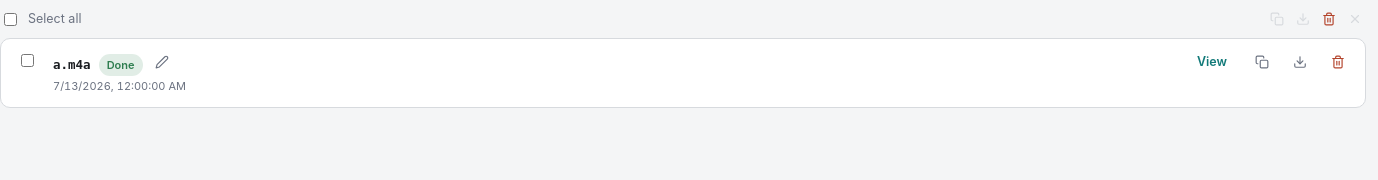
Test case: HistoryView › cancelling the confirmation dialog does not trash the audio
What coordinates should you click on to do the following:
click the button named "Delete"
I would click on:
 (1338, 62)
Its box is [1327,51,1349,73].
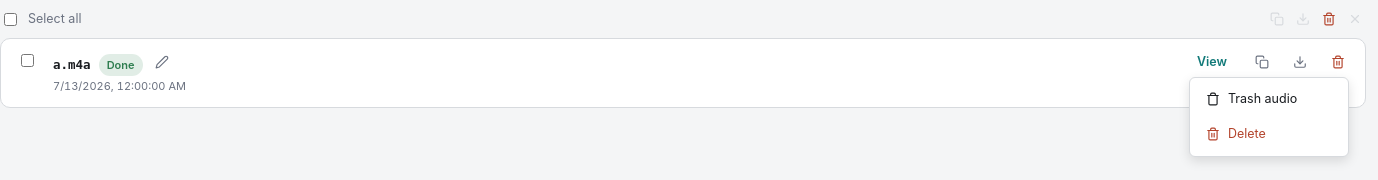
What coordinates should you click on to do the following:
click the menu item "Trash audio"
I would click on:
 (1269, 99)
Its box is [1194,82,1344,117].
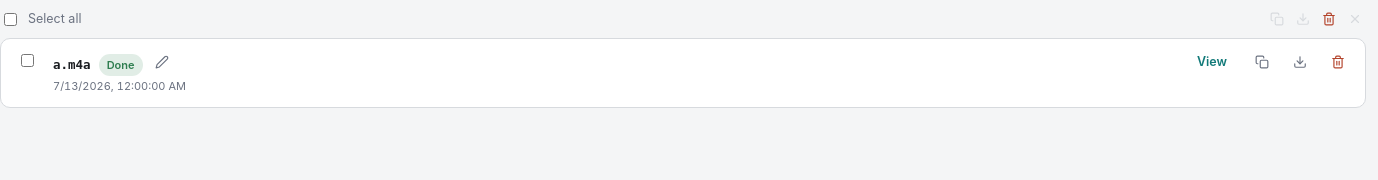
What coordinates should you click on to do the following:
click the button named "Delete"
I would click on:
 (1338, 62)
Its box is [1327,51,1349,73].
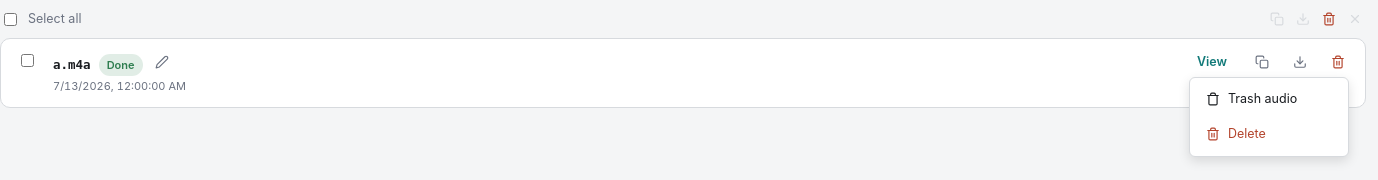
Check: the menu item "Trash audio" is shown, box [1194,82,1344,117]
